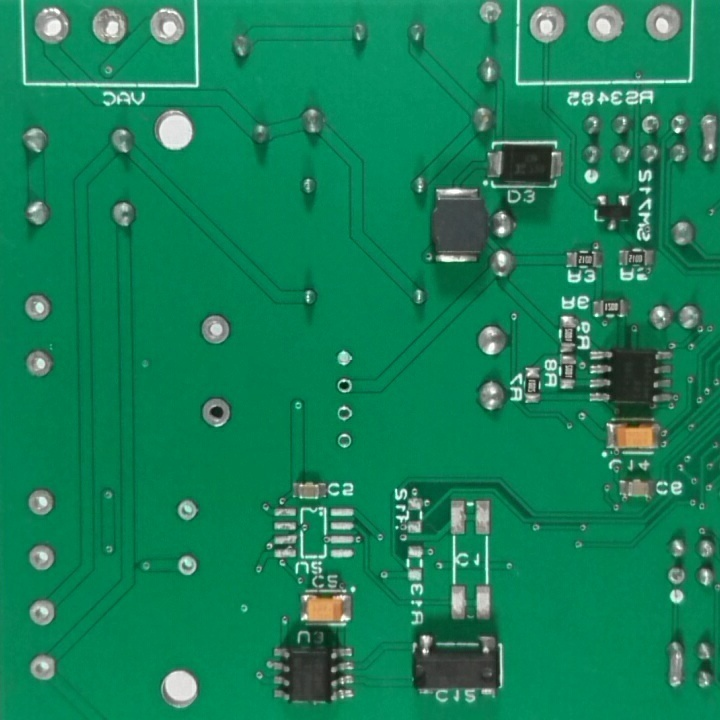F: (526, 3, 571, 49), (88, 3, 131, 48), (585, 4, 629, 47), (28, 6, 73, 46), (643, 3, 685, 45), (146, 7, 188, 48), (197, 395, 236, 432), (196, 312, 236, 346), (25, 486, 59, 520), (27, 541, 60, 576), (27, 653, 60, 687), (22, 349, 57, 381), (22, 292, 54, 326), (26, 597, 58, 630), (475, 1, 508, 31), (175, 498, 201, 526), (175, 554, 202, 580), (640, 112, 665, 138), (666, 565, 688, 590), (334, 375, 356, 398), (335, 404, 356, 425), (333, 348, 354, 368), (334, 432, 354, 451)
P: (663, 635, 688, 694), (697, 110, 720, 166)
